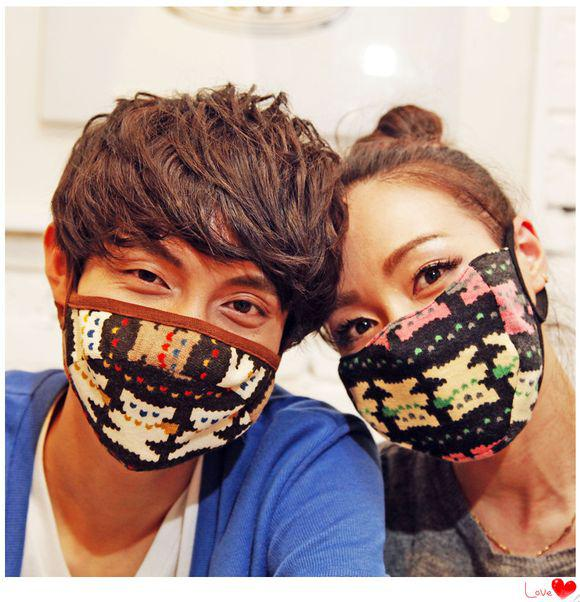OK: (77, 229, 298, 450), (343, 227, 540, 460)
